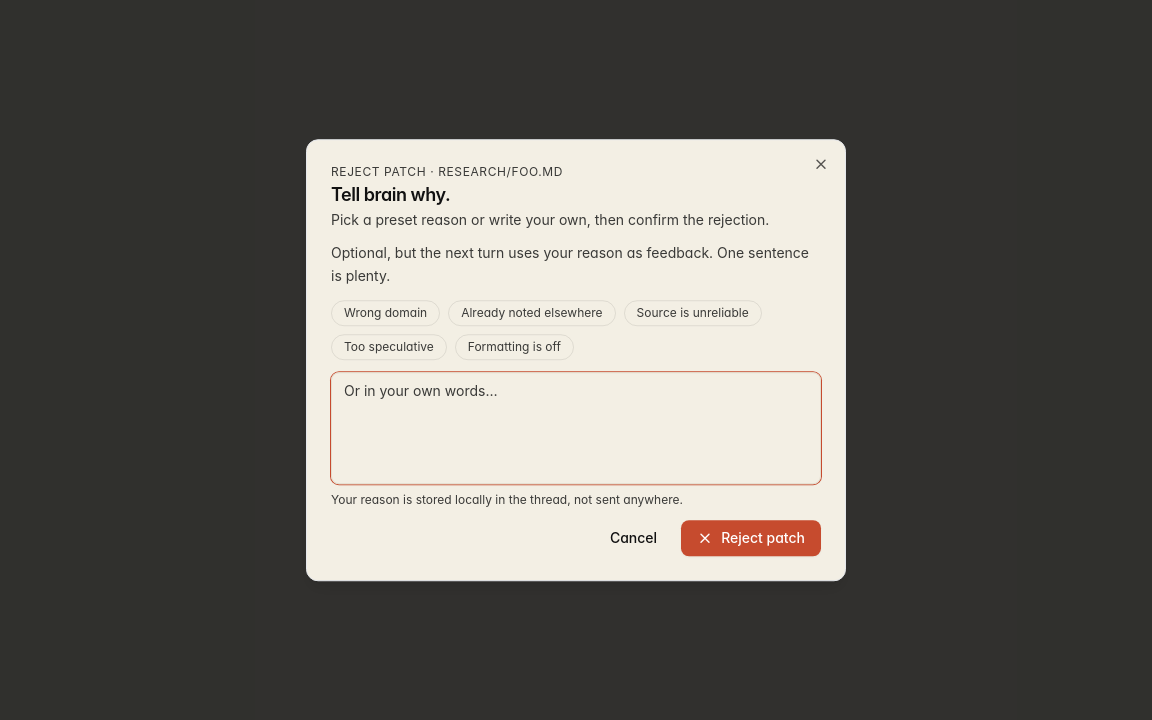
Scenario: RejectReasonDialog › preset chip click populates the textarea / internal reason state
Expected: the dialog is shown, [306,139,846,581]
Click the button "Wrong domain" at x=386, y=313, box [331,300,440,326]
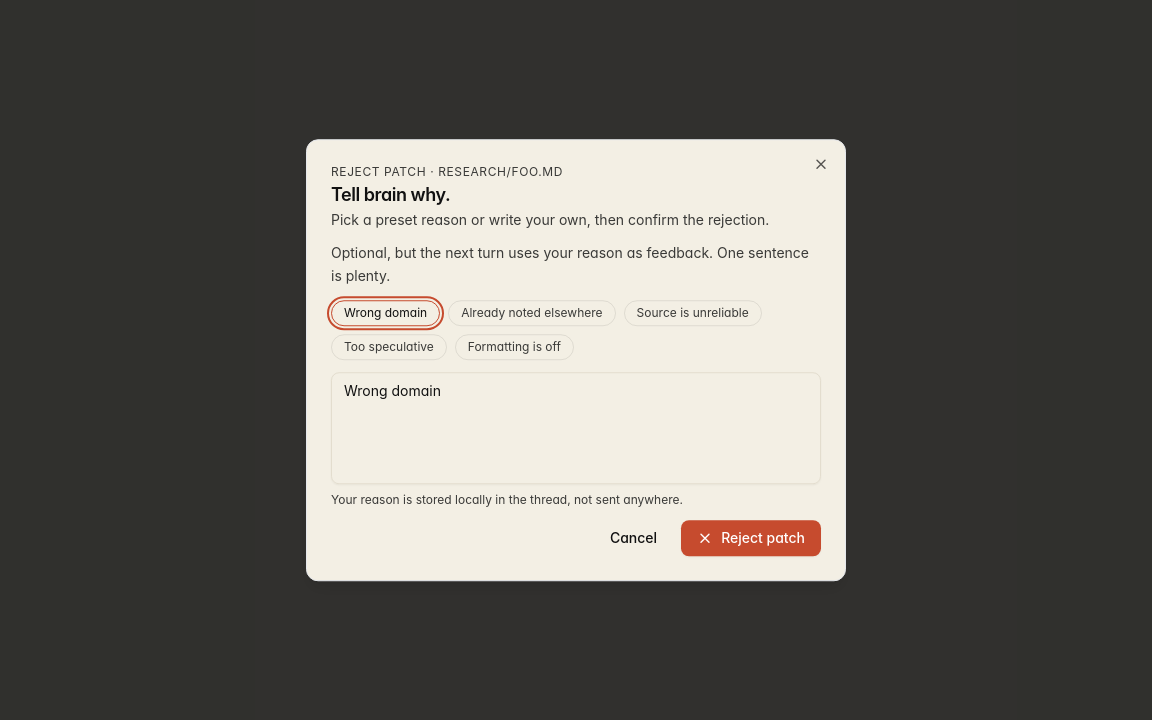
Expected: the text box with placeholder "Or in your own words…" holds "Wrong domain", [331,372,821,484]
